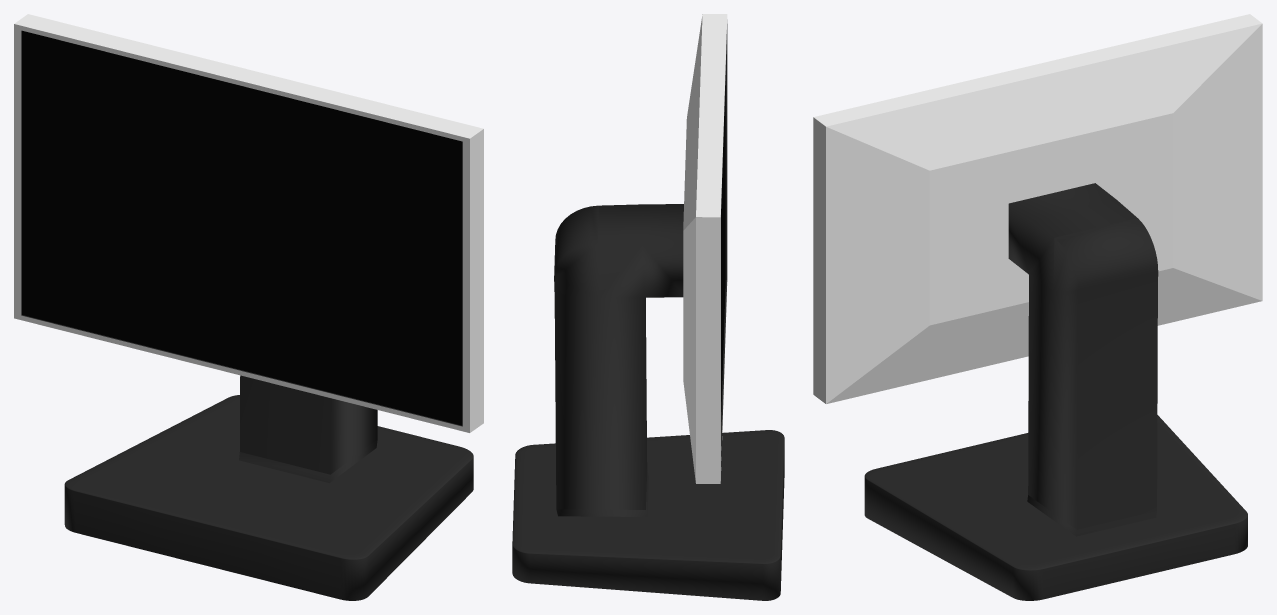
Rendered from monitor.glb.
The picture shows the model from 3 angles, left to right: view 1: azimuth 30°, elevation 25°; view 2: azimuth 150°, elevation 25°; view 3: azimuth 270°, elevation 25°; orthographic projection. The views are drawn at different scales.
Visible parts, largest first — view 1: monitor_object; view 2: monitor_object; view 3: monitor_object.
Boxes of the visible parts, x1,y1,x2,y2 form: monitor_object: [14, 14, 483, 600]; monitor_object: [512, 14, 784, 600]; monitor_object: [813, 14, 1262, 600].
Size of the model in its own units: 5.29 by 6.77 by 6.34.
Materials: 3 (1 with a texture image).
